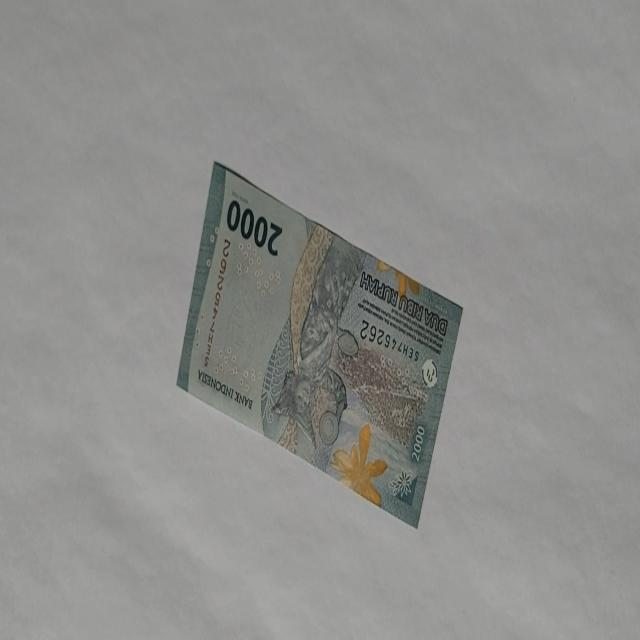dua ribu rupiah: (176, 159, 464, 529), (260, 222, 368, 465)
